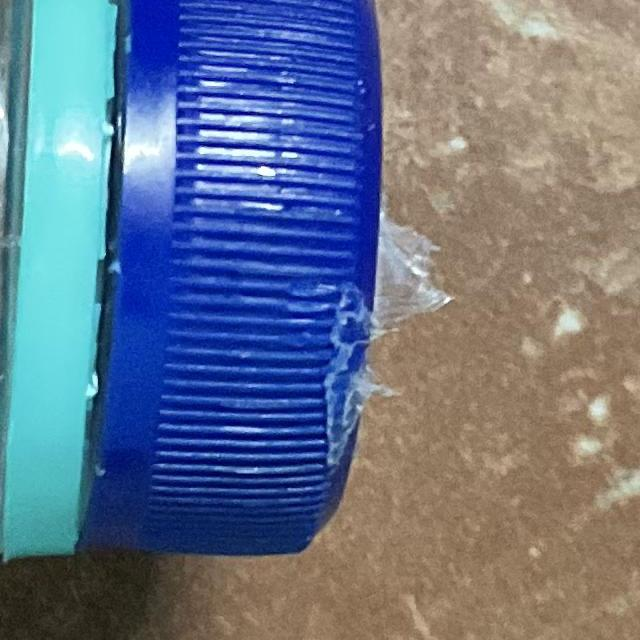Good-cap-Df0S: (0, 0, 391, 595)
